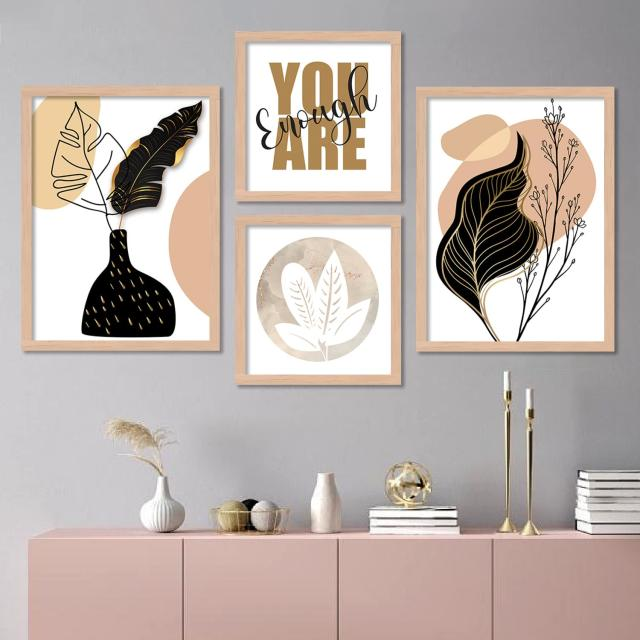painting: (22, 84, 221, 353), (417, 83, 616, 352), (236, 215, 401, 386), (236, 31, 401, 201)
